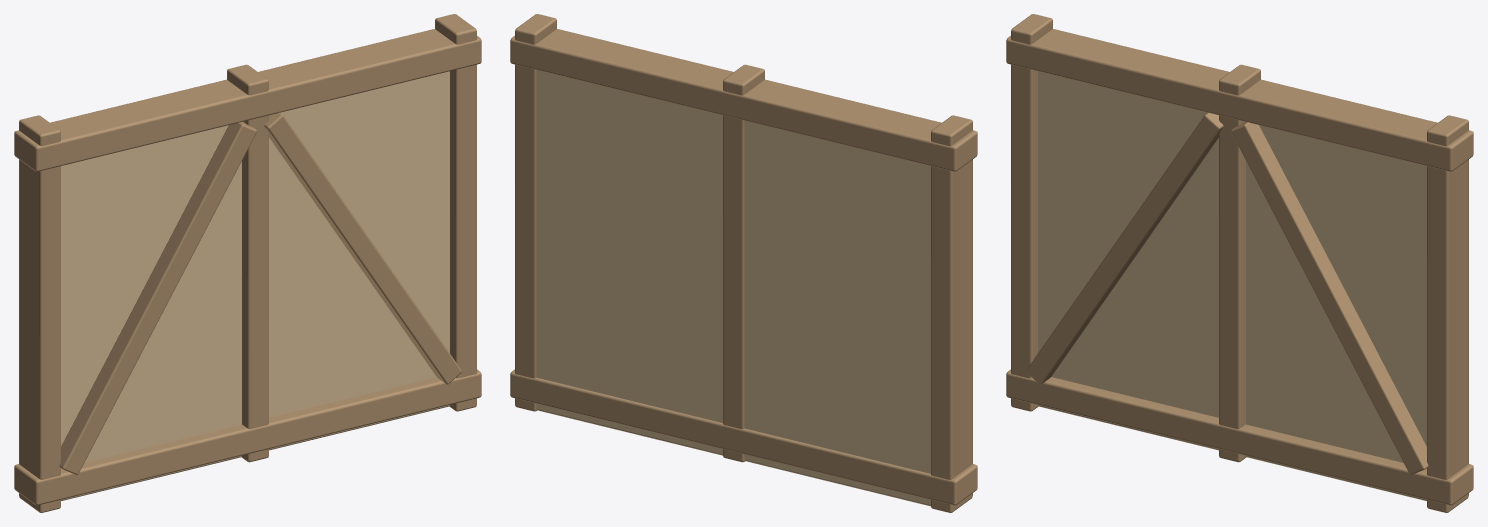
File: half_timber_bay.glb
The picture shows the model from 3 angles, left to right: view 1: azimuth 30°, elevation 25°; view 2: azimuth 150°, elevation 25°; view 3: azimuth 330°, elevation 25°; orthographic projection.
Visible parts, largest first — view 1: half_timber_bay; view 2: half_timber_bay; view 3: half_timber_bay.
Boxes of the visible parts, bbox=[...] form: half_timber_bay: bbox=[14, 14, 481, 512]; half_timber_bay: bbox=[510, 14, 977, 512]; half_timber_bay: bbox=[1006, 14, 1473, 512].
Bounding box in the file's own units: 2.9 × 2.35 × 0.3.
